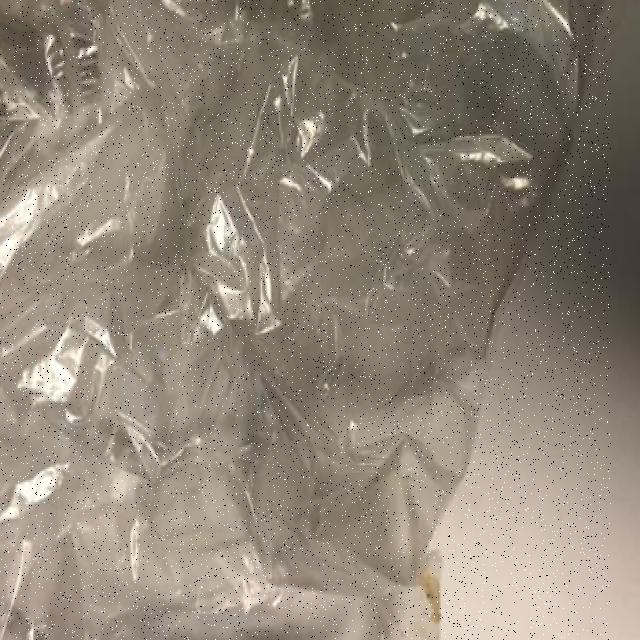plastic: (0, 0, 611, 640)
